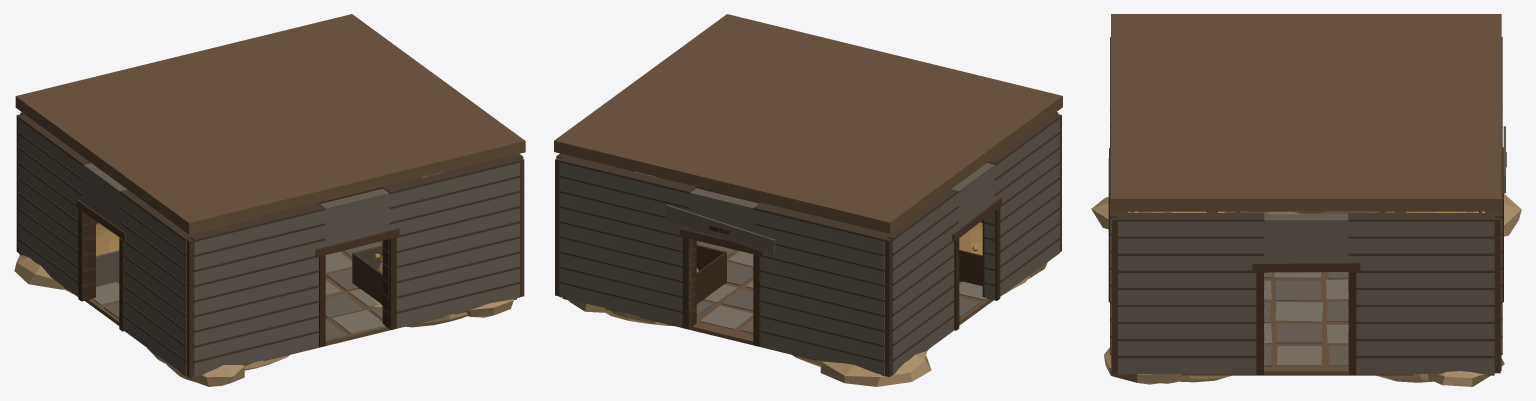
The model's file is TownBldg_cellar.glb.
The picture shows the model from 3 angles, left to right: view 1: azimuth 30°, elevation 25°; view 2: azimuth 150°, elevation 25°; view 3: azimuth 270°, elevation 25°; orthographic projection. The views are drawn at different scales.
Parts seen in each view (by area): view 1: TownBldg_cellar.001; view 2: TownBldg_cellar.001; view 3: TownBldg_cellar.001.
Boxes of the visible parts, x1,y1,x2,y2 form: TownBldg_cellar.001: (14,14,525,386); TownBldg_cellar.001: (554,14,1062,386); TownBldg_cellar.001: (1091,14,1521,386).
Bounding box in the file's own units: 9.96 × 4.6 × 9.15.
